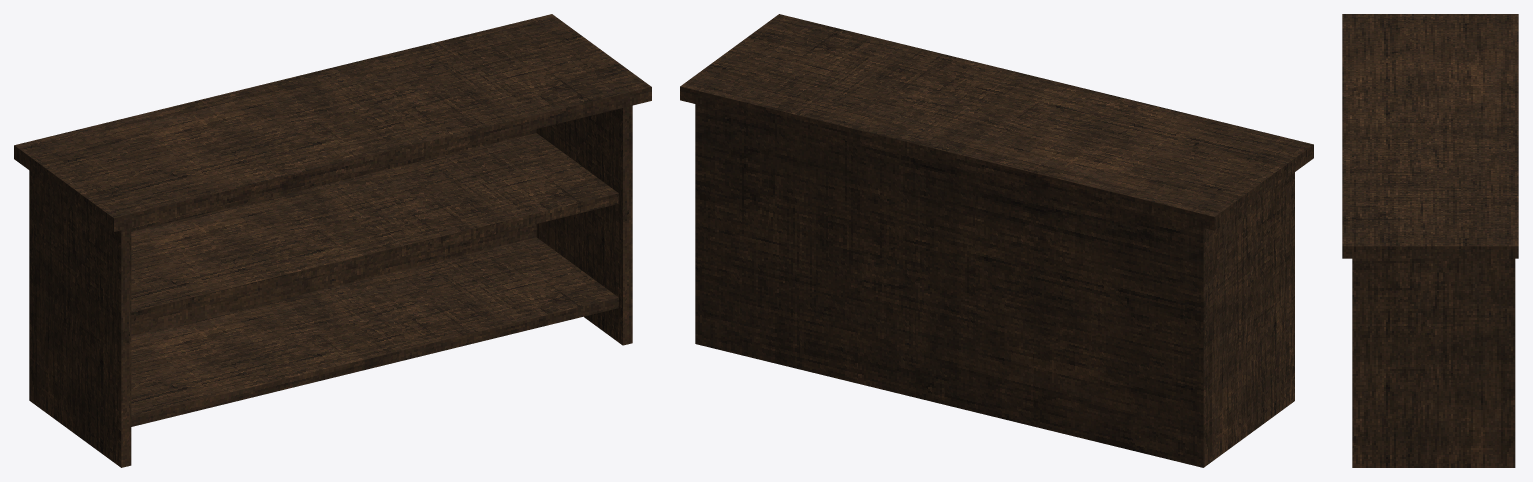
The model's file is tv_table_1_1.glb.
3 renders of one model, left to right at view 1: azimuth 30°, elevation 25°; view 2: azimuth 150°, elevation 25°; view 3: azimuth 270°, elevation 25°, orthographic. The views are drawn at different scales.
Visible parts, largest first — view 1: tv_table_1_1; view 2: tv_table_1_1; view 3: tv_table_1_1.
Boxes of the visible parts, x1,y1,x2,y2 form: tv_table_1_1: [14, 14, 651, 467]; tv_table_1_1: [680, 14, 1313, 467]; tv_table_1_1: [1342, 14, 1518, 467].
Size of the model in its own units: 1.62 by 0.74 by 0.52.
1 material, 1 textured.
